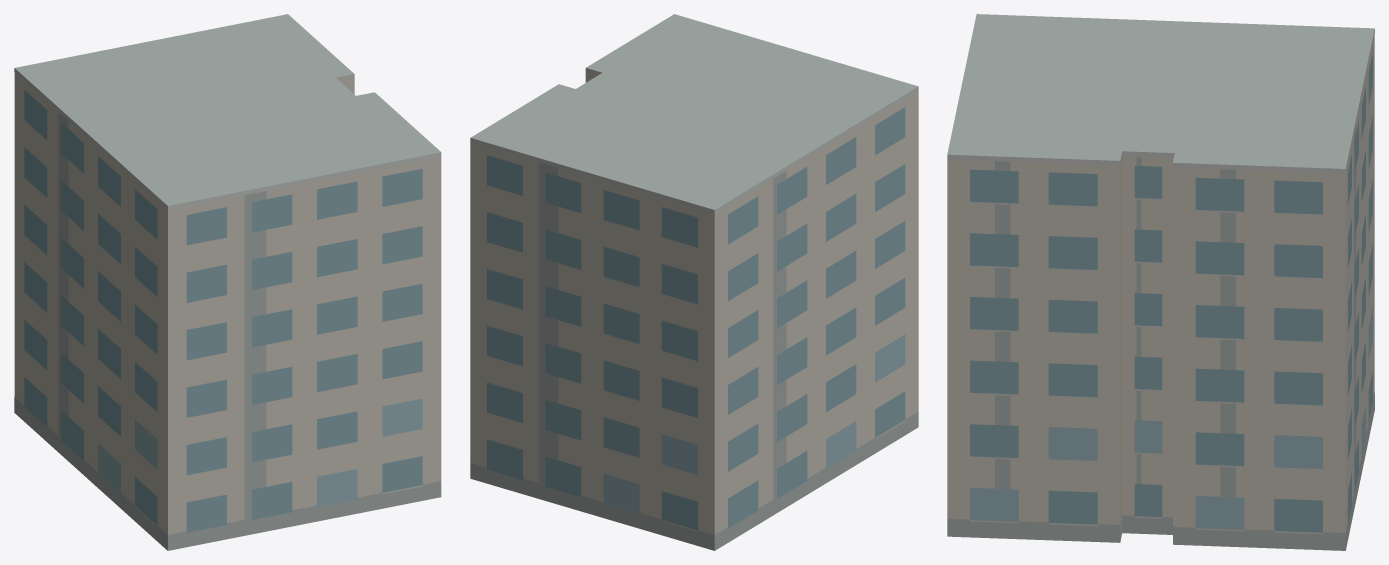
File: survey-upis-32895015.glb
3 renders of one model, left to right at view 1: azimuth 30°, elevation 25°; view 2: azimuth 150°, elevation 25°; view 3: azimuth 270°, elevation 25°, orthographic. The views are drawn at different scales.
Visible parts, largest first — view 1: survey-upis-32895015.tmp; view 2: survey-upis-32895015.tmp; view 3: survey-upis-32895015.tmp.
Part boxes in pixels (<box>): survey-upis-32895015.tmp: <box>14,14,441,550</box>; survey-upis-32895015.tmp: <box>470,14,918,550</box>; survey-upis-32895015.tmp: <box>947,14,1374,550</box>.
Bounding box in the file's own units: 16.6 × 19.06 × 19.35.
